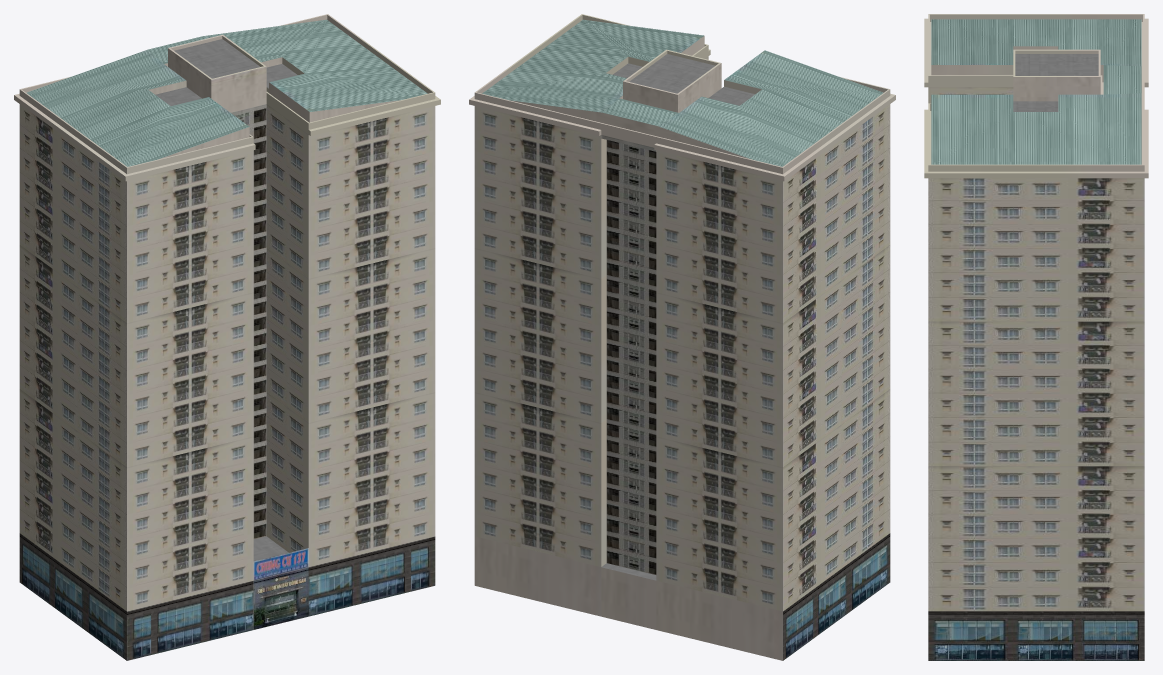
3 views of the same model, side by side, from view 1: azimuth 30°, elevation 25°; view 2: azimuth 150°, elevation 25°; view 3: azimuth 270°, elevation 25° (orthographic).
Parts seen in each view (by area): view 1: HN786_ChungCu137NguyenNgocVu; view 2: HN786_ChungCu137NguyenNgocVu; view 3: HN786_ChungCu137NguyenNgocVu.
Part boxes in pixels (x1,y1,x2,y2): HN786_ChungCu137NguyenNgocVu: [14, 14, 440, 660]; HN786_ChungCu137NguyenNgocVu: [469, 14, 895, 660]; HN786_ChungCu137NguyenNgocVu: [924, 14, 1148, 660].
Size of the model in its own units: 48.09 by 75.66 by 29.44.
1 material, 1 textured.
